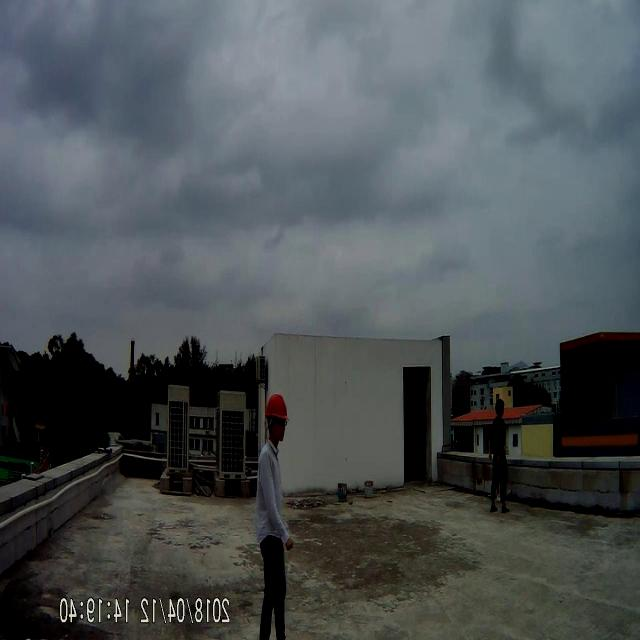face_nomask: (271, 416, 289, 445)
hand_noglove: (283, 531, 295, 561)
head_helmet: (265, 393, 291, 422)
person: (258, 383, 302, 640), (483, 396, 509, 508)
